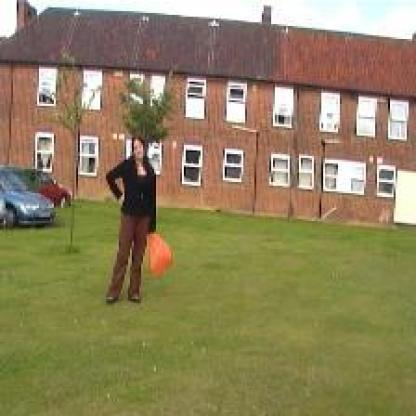other: (138, 227, 177, 274)
